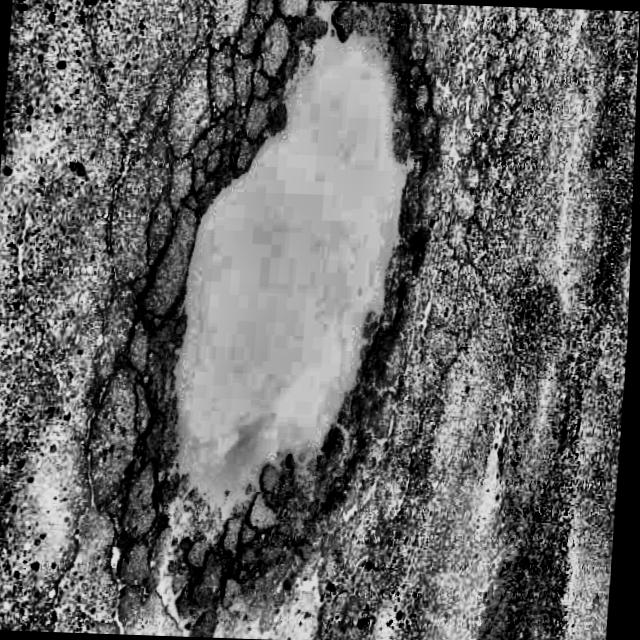pothole: (164, 34, 408, 511)
